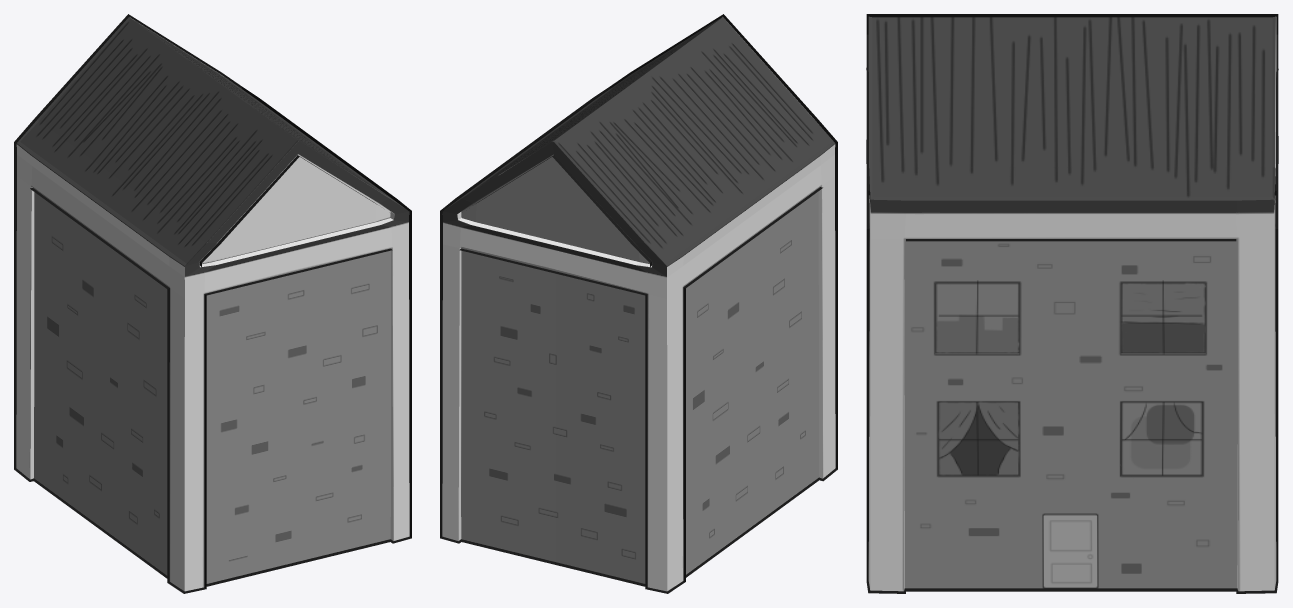
File: Casa2.fbx
3 views of the same model, side by side, from view 1: azimuth 30°, elevation 25°; view 2: azimuth 150°, elevation 25°; view 3: azimuth 270°, elevation 25° (orthographic). The views are drawn at different scales.
Visible parts, largest first — view 1: casa2; view 2: casa2; view 3: casa2.
Part boxes in pixels (x1,y1,x2,y2): casa2: (14,14,411,593); casa2: (440,14,837,593); casa2: (866,14,1278,593).
Size of the model in its own units: 199 by 352 by 256.
